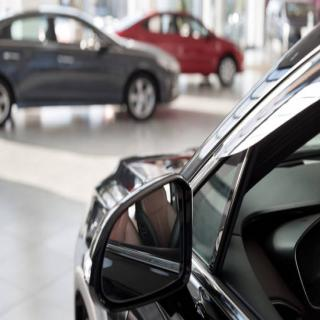Normal_vehicle: (73, 23, 320, 320), (1, 5, 180, 128), (120, 7, 248, 94)
